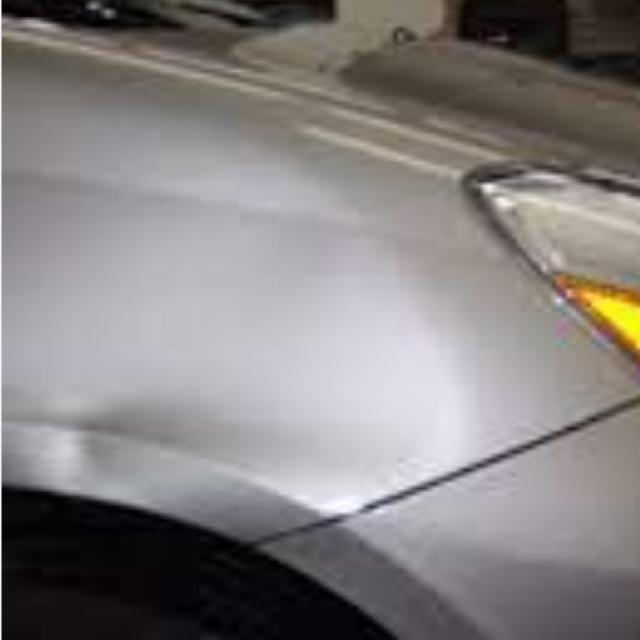dents: (39, 334, 249, 522)
